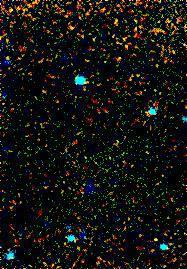star: (144, 224, 174, 254)
